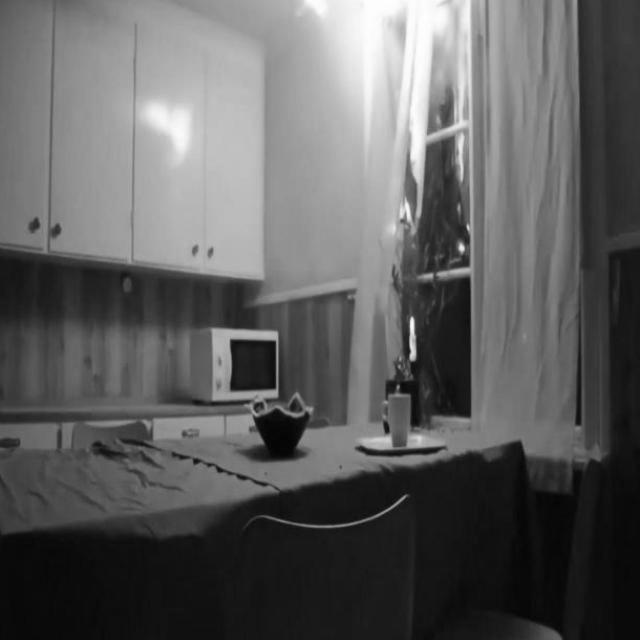smoke: (288, 0, 475, 202), (406, 314, 420, 362)
